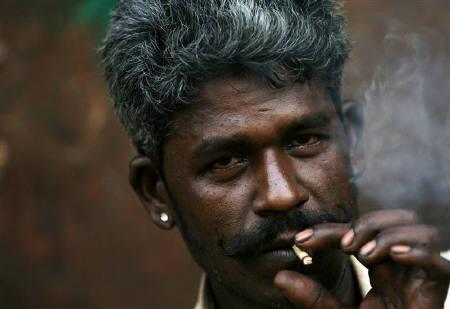cigarette: (288, 238, 315, 265)
